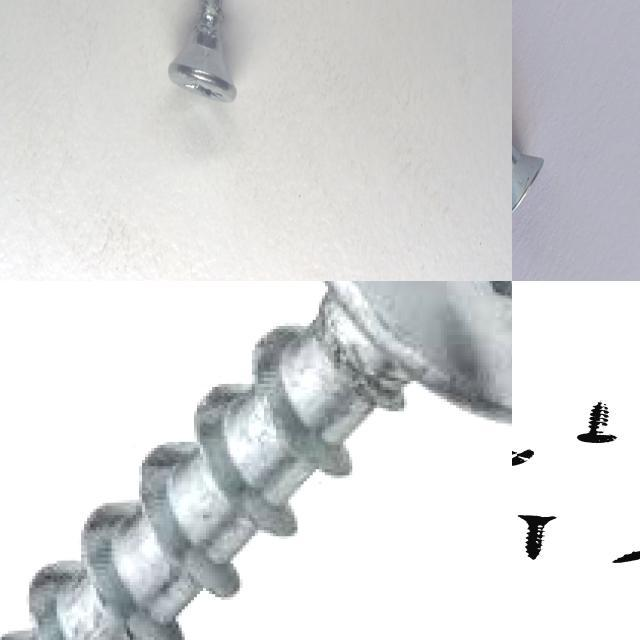Screw: (0, 281, 512, 640), (165, 0, 240, 108), (512, 143, 544, 213), (519, 515, 557, 559), (578, 401, 617, 443), (512, 449, 535, 465), (613, 551, 640, 563)
